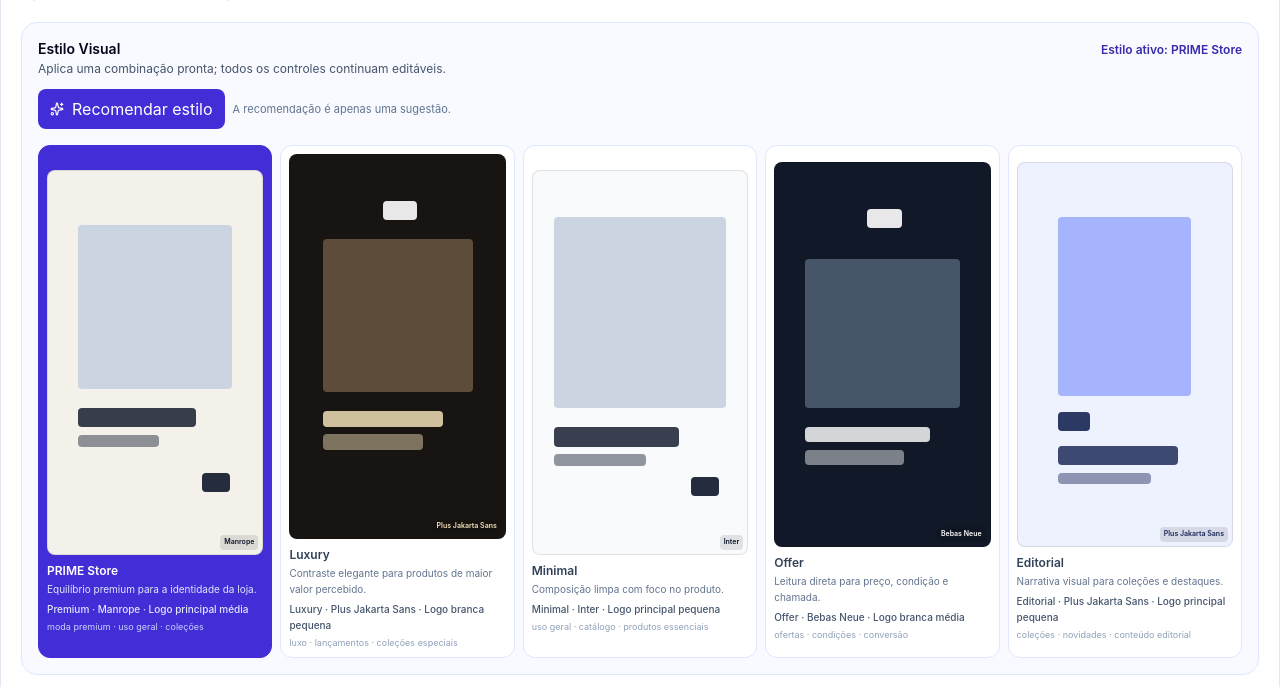
StoryComposer › shows a local style recommendation only after an explicit click and applies it manually
Click the button "Recomendar estilo". click: (131, 109)
box: x1=38 y1=89 x2=225 y2=129
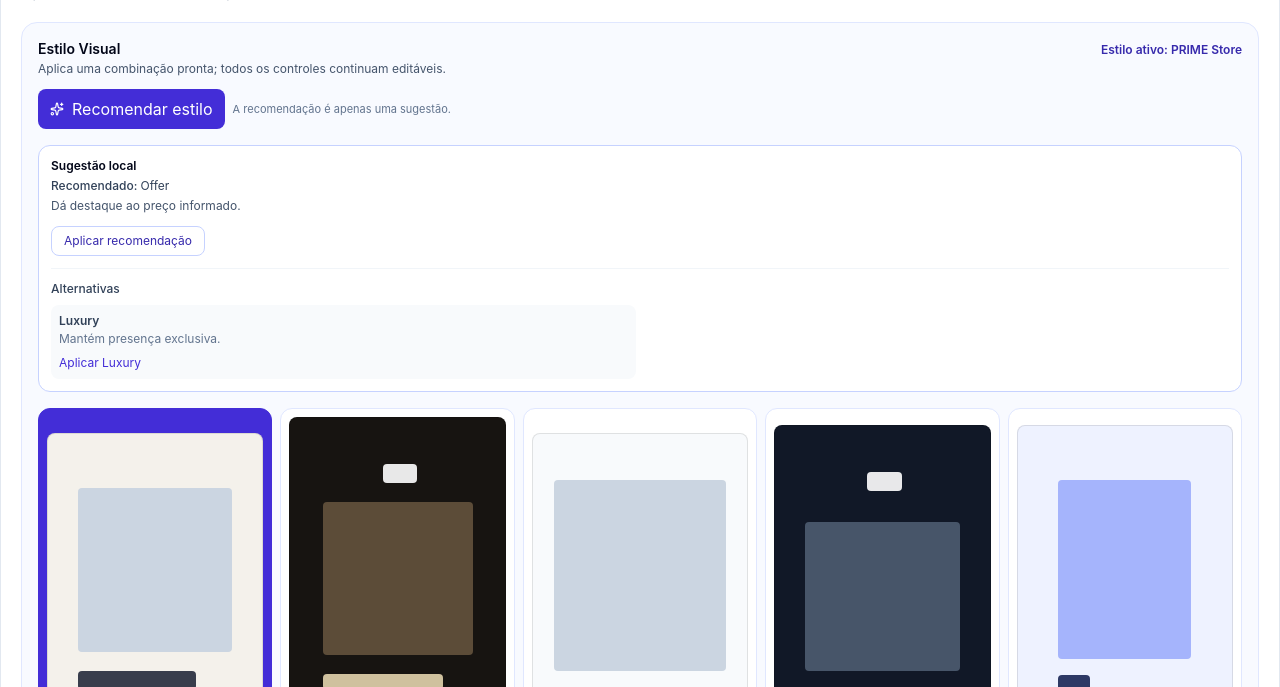
expect the text "Sugestão local" is shown: met, box x1=51 y1=158 x2=136 y2=173
expect the text "Recomendado:" is shown: met, box x1=51 y1=178 x2=140 y2=193
Click the button "Aplicar recomendação". click: (128, 241)
box: x1=51 y1=226 x2=205 y2=256
(page scrolled)
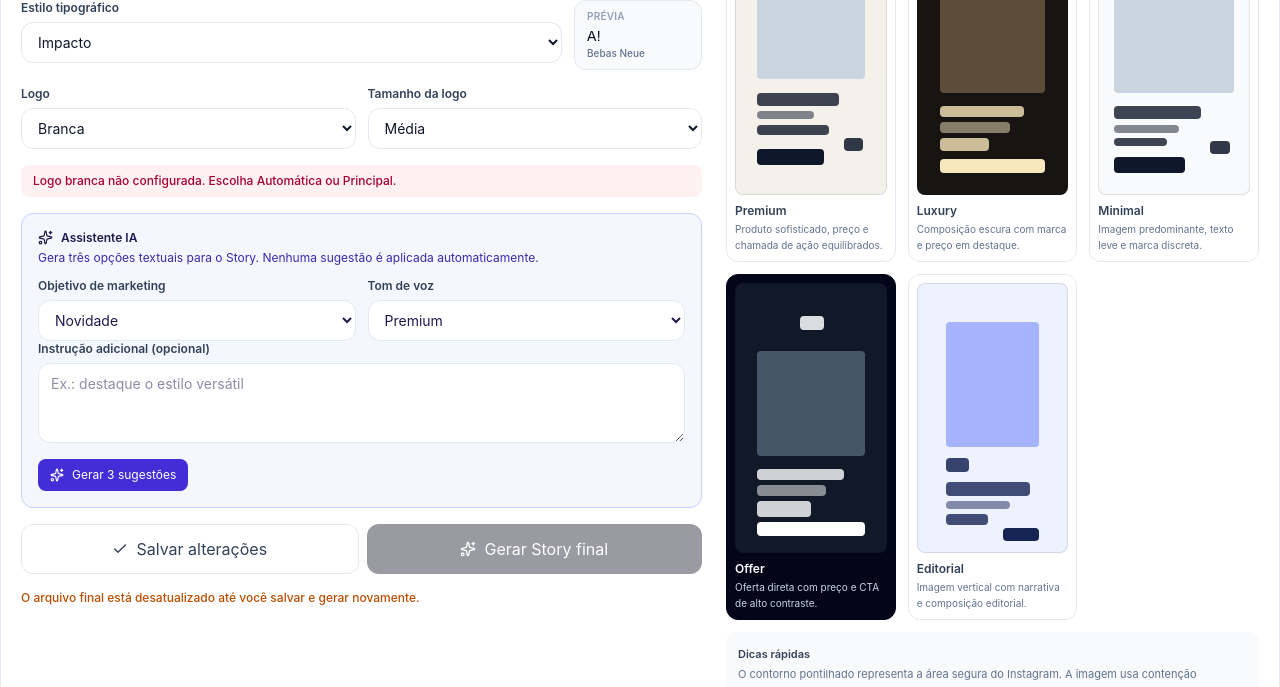
expect the dropdown labelled "Estilo tipográfico" shows "Impacto": met, box x1=21 y1=22 x2=562 y2=63
expect the dropdown labelled "Logo" shows "Branca": met, box x1=21 y1=108 x2=356 y2=149
expect the text "O arquivo final está desatualizado até você salvar e gerar novamente." is shown: met, box x1=21 y1=590 x2=420 y2=605
